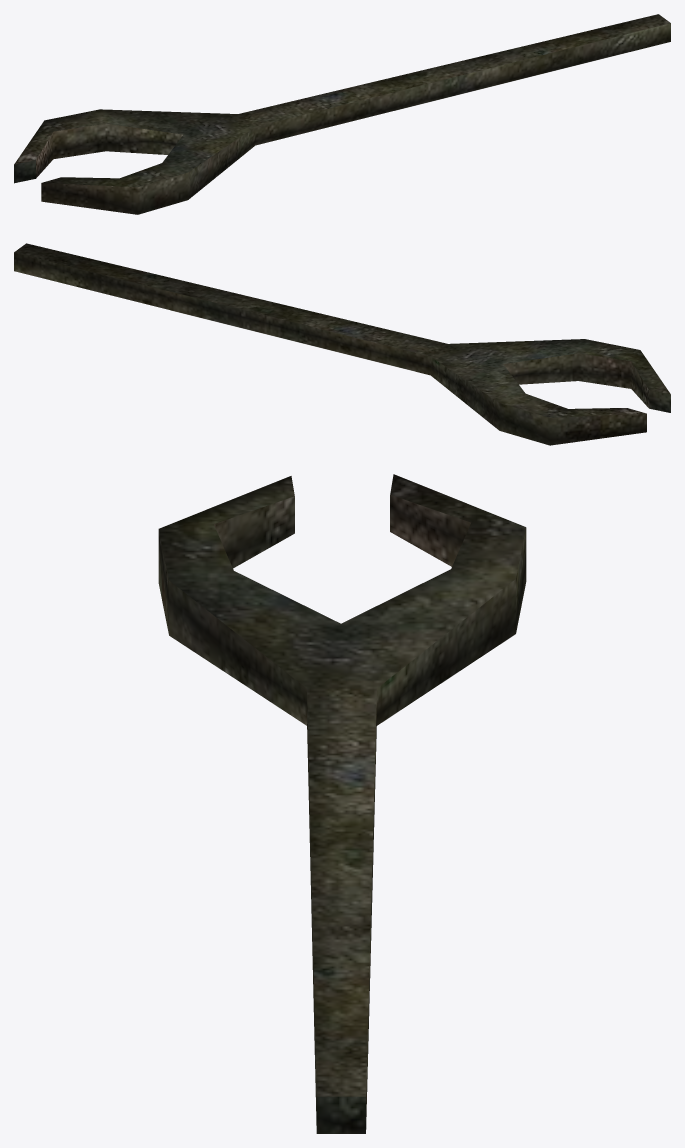
File: ITMI_PLIERS.glb
3 views of the same model, one above another, from view 1: azimuth 30°, elevation 25°; view 2: azimuth 150°, elevation 25°; view 3: azimuth 270°, elevation 25° (orthographic). The views are drawn at different scales.
Visible parts, largest first — view 1: Mesh; view 2: Mesh; view 3: Mesh.
Part boxes in pixels (x1,y1,x2,y2): Mesh: (14, 14, 670, 214); Mesh: (14, 243, 670, 445); Mesh: (158, 474, 526, 1133).
Size of the model in its own units: 0.7033 by 0.0291 by 0.1754.
1 material, 1 textured.
